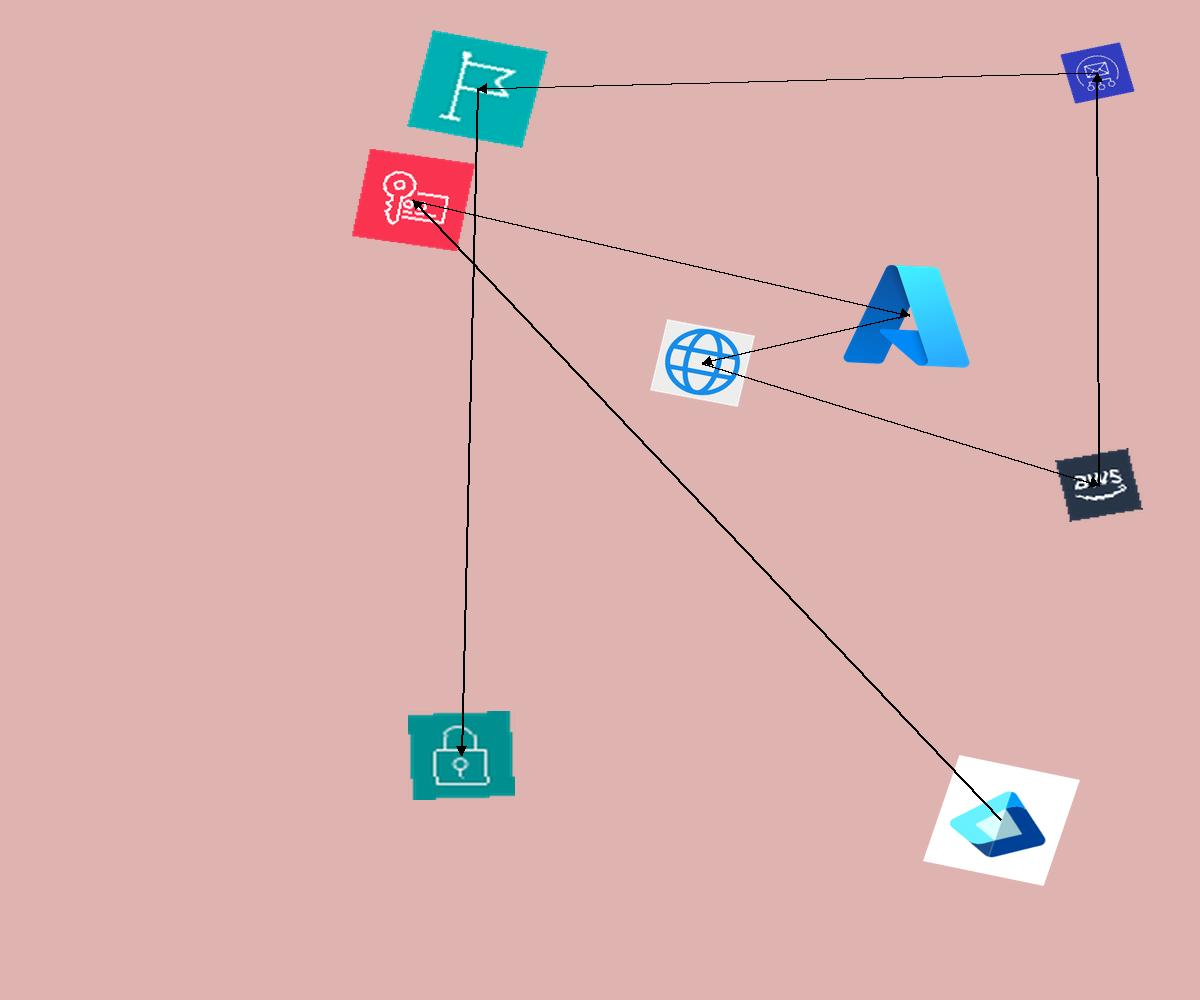AWS-Cloud-logo: (1055, 448, 1143, 522)
AWS-Key-Management-Service: (351, 148, 476, 252)
AWS-Private-subnet: (408, 711, 515, 800)
AWS-Region: (407, 30, 548, 148)
AWS-Simple-Email-Service: (1060, 42, 1135, 104)
Azure_http: (650, 319, 755, 407)
Azure_microsoft_entra: (923, 755, 1080, 886)
Azure_services: (837, 255, 982, 376)
